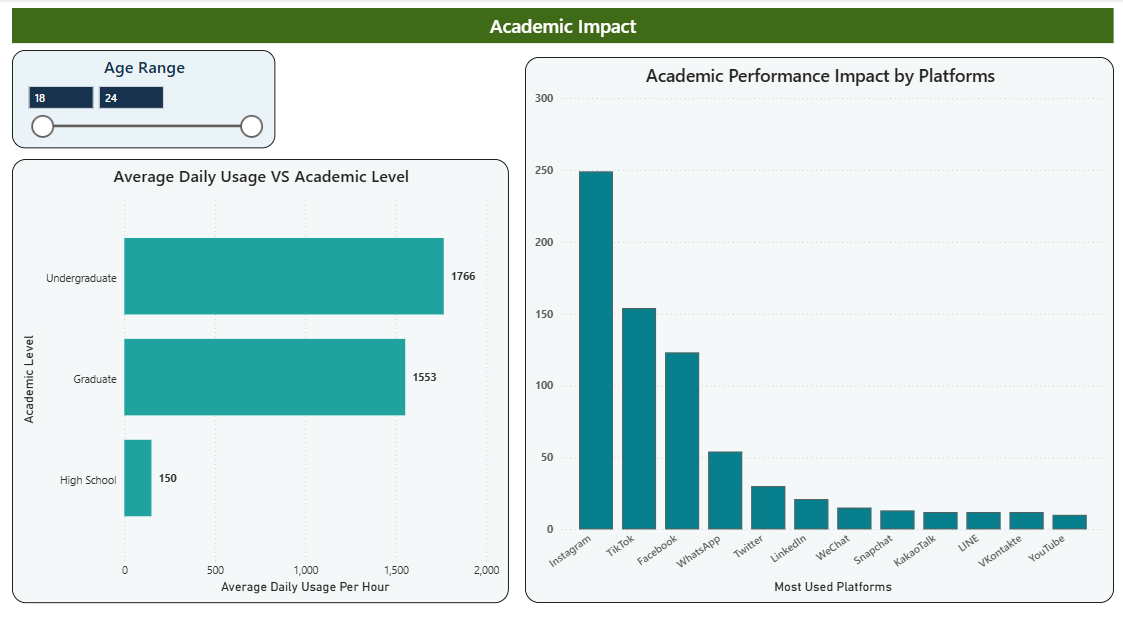

This screenshot's page, from the dashboard's own definition file:
{"tool":"powerbi","page":{"name":"Academic Impact","canvas":[1280,720],"ordinal":3},"visuals":[{"type":"barChart","title":"Average Daily Usage VS Academic Level","fields":{"Y":["Sum(Platform Details.Avg_Daily_Usage_Hours)"],"Category":["Student Details.Academic_Level"]},"box":[14.8,182.3,566.2,505.8],"z":0},{"type":"columnChart","title":"Academic Performance Impact by Platforms","fields":{"Y":["CountNonNull(Platform Details.Affects_Academic_Performance)"],"Category":["Platform Details.Most_Used_Platform"]},"box":[599.2,66.1,671,622],"z":1000},{"type":"textbox","box":[14.8,10.3,1255.4,39.9],"z":2000},{"type":"slicer","title":"Age Range","fields":{"Values":["Student Details.Age"]},"box":[14.8,58.1,299.6,111.6],"z":3000}]}

Visuals, with their boxes in screenshot pixels (x1, y1, x2, y2), scaled from the page's 1280x720 canvas onto the 1123x625 screenshot:
"Average Daily Usage VS Academic Level" barChart: box(13, 158, 510, 597)
"Academic Performance Impact by Platforms" columnChart: box(526, 57, 1114, 597)
textbox: box(13, 9, 1114, 44)
"Age Range" slicer: box(13, 50, 276, 147)
